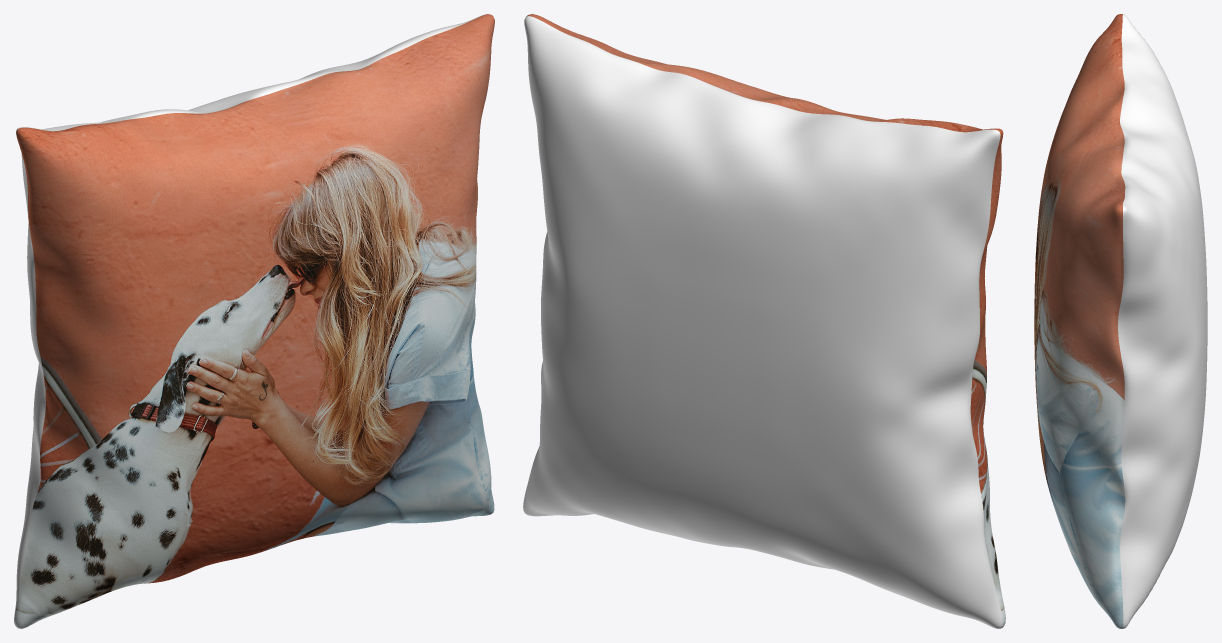
The model's file is cushion.glb.
The picture shows the model from 3 angles, left to right: view 1: azimuth 30°, elevation 25°; view 2: azimuth 150°, elevation 25°; view 3: azimuth 270°, elevation 25°; orthographic projection. The views are drawn at different scales.
Parts seen in each view (by area): view 1: Front, Back; view 2: Back, Front; view 3: Front, Back.
Boxes of the visible parts, box(x1,y1,x2,y2) form: Front: box(14, 14, 494, 628); Back: box(14, 14, 486, 622); Back: box(523, 16, 1002, 628); Front: box(526, 14, 1005, 628); Front: box(1034, 14, 1125, 628); Back: box(1118, 14, 1207, 628).
Size of the model in its own units: 0.4008 by 0.3996 by 0.1489.
2 materials, 2 textured.
